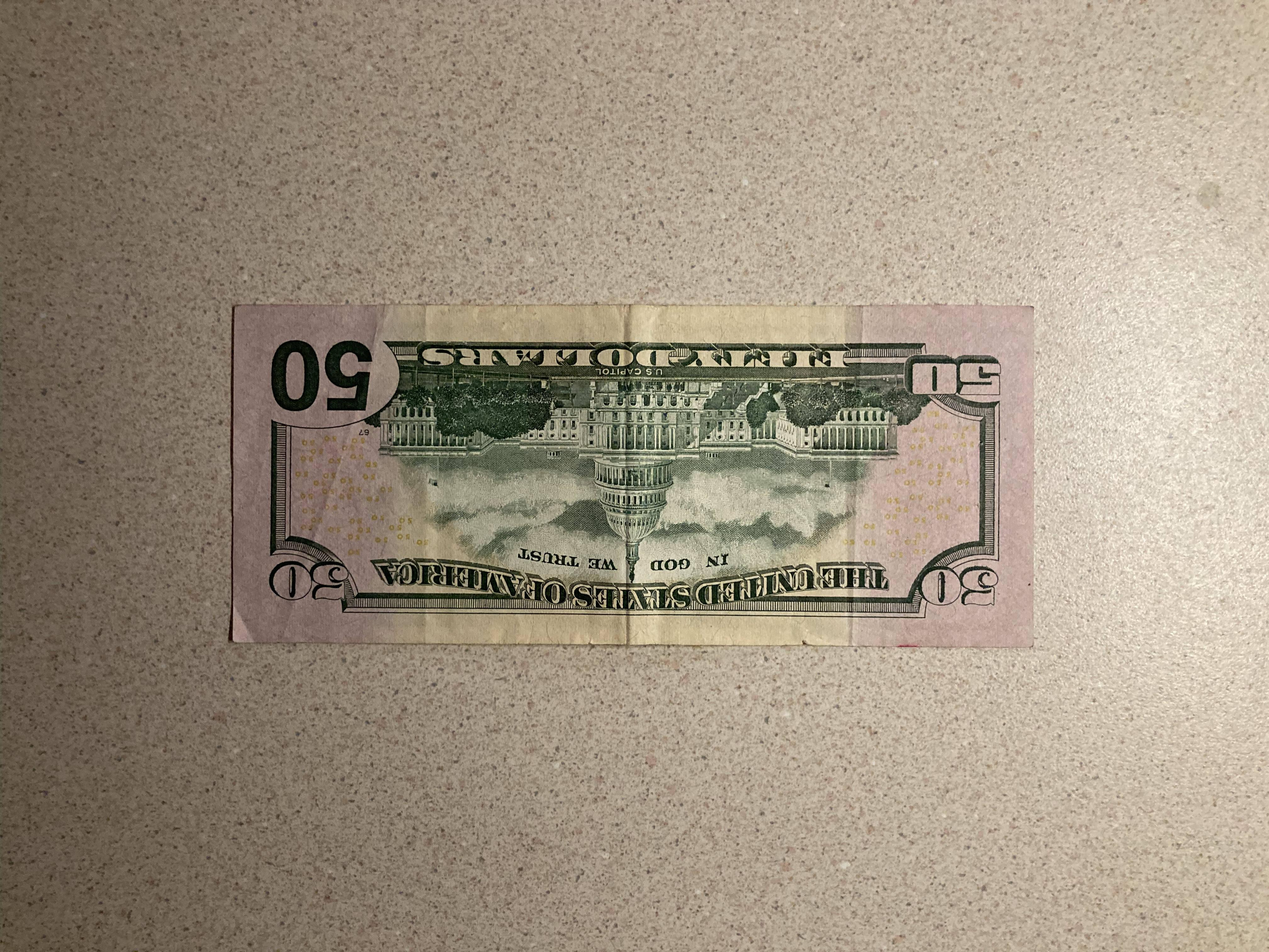fifty-back: (230, 303, 1037, 651)
